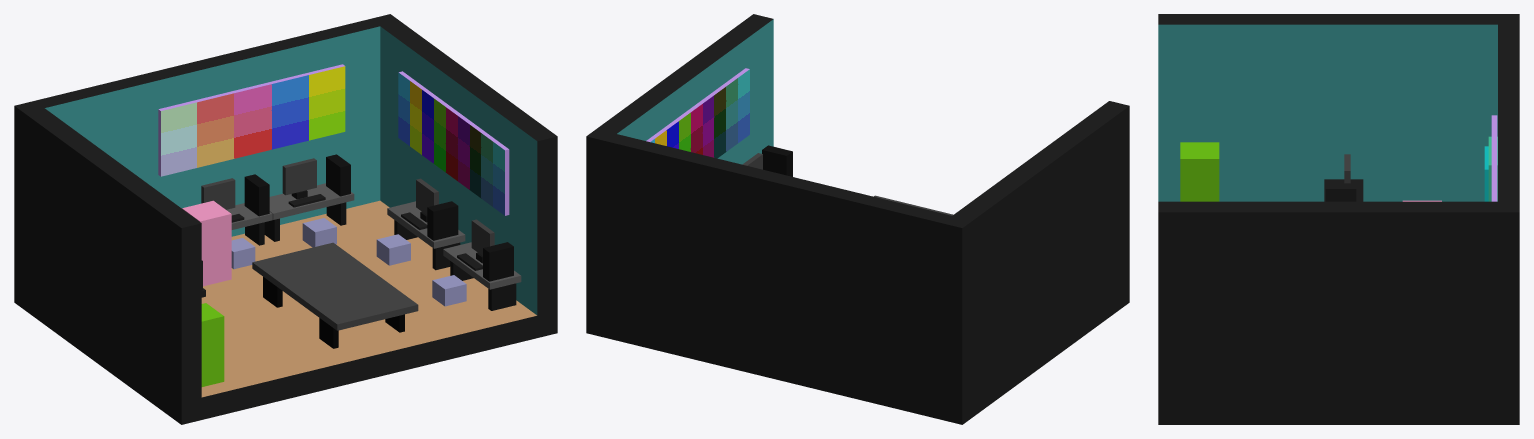
File: BgTypeAA001.FBX
The picture shows the model from 3 angles, left to right: view 1: azimuth 30°, elevation 25°; view 2: azimuth 150°, elevation 25°; view 3: azimuth 270°, elevation 25°; orthographic projection. The views are drawn at different scales.
Parts seen in each view (by area): view 1: Box001; view 2: Box001; view 3: Box001.
Part boxes in pixels (x1,y1,x2,y2): Box001: [14, 14, 557, 424]; Box001: [586, 14, 1129, 424]; Box001: [1158, 14, 1519, 424].
Bounding box in the file's own units: 60 × 30 × 46.2.
Materials: 1 (1 with a texture image).
